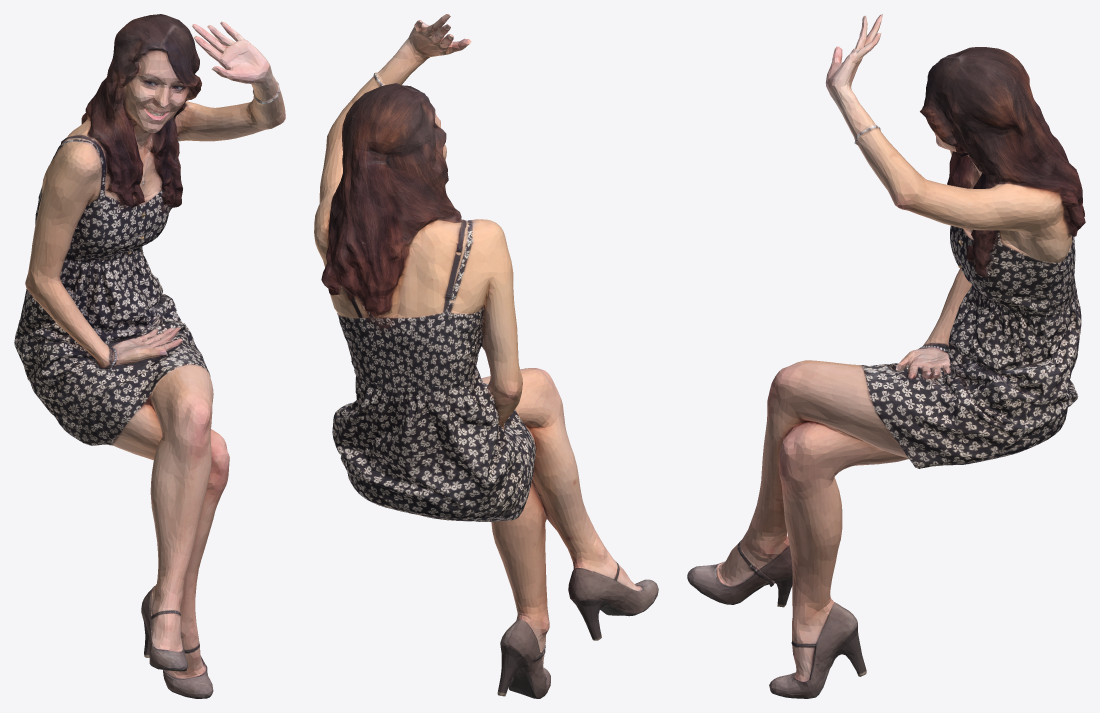
Rendered from woman_sitting_waving.dae.
3 views of the same model, side by side, from view 1: azimuth 30°, elevation 25°; view 2: azimuth 150°, elevation 25°; view 3: azimuth 270°, elevation 25° (orthographic). The views are drawn at different scales.
Visible parts, largest first — view 1: node; view 2: node; view 3: node.
Part boxes in pixels (box(x1,y1,x2,y2)): node: box(14, 14, 285, 698); node: box(314, 14, 658, 698); node: box(687, 14, 1085, 698).
Bounding box in the file's own units: 20.41 × 57.39 × 29.56.
1 material, 1 textured.
